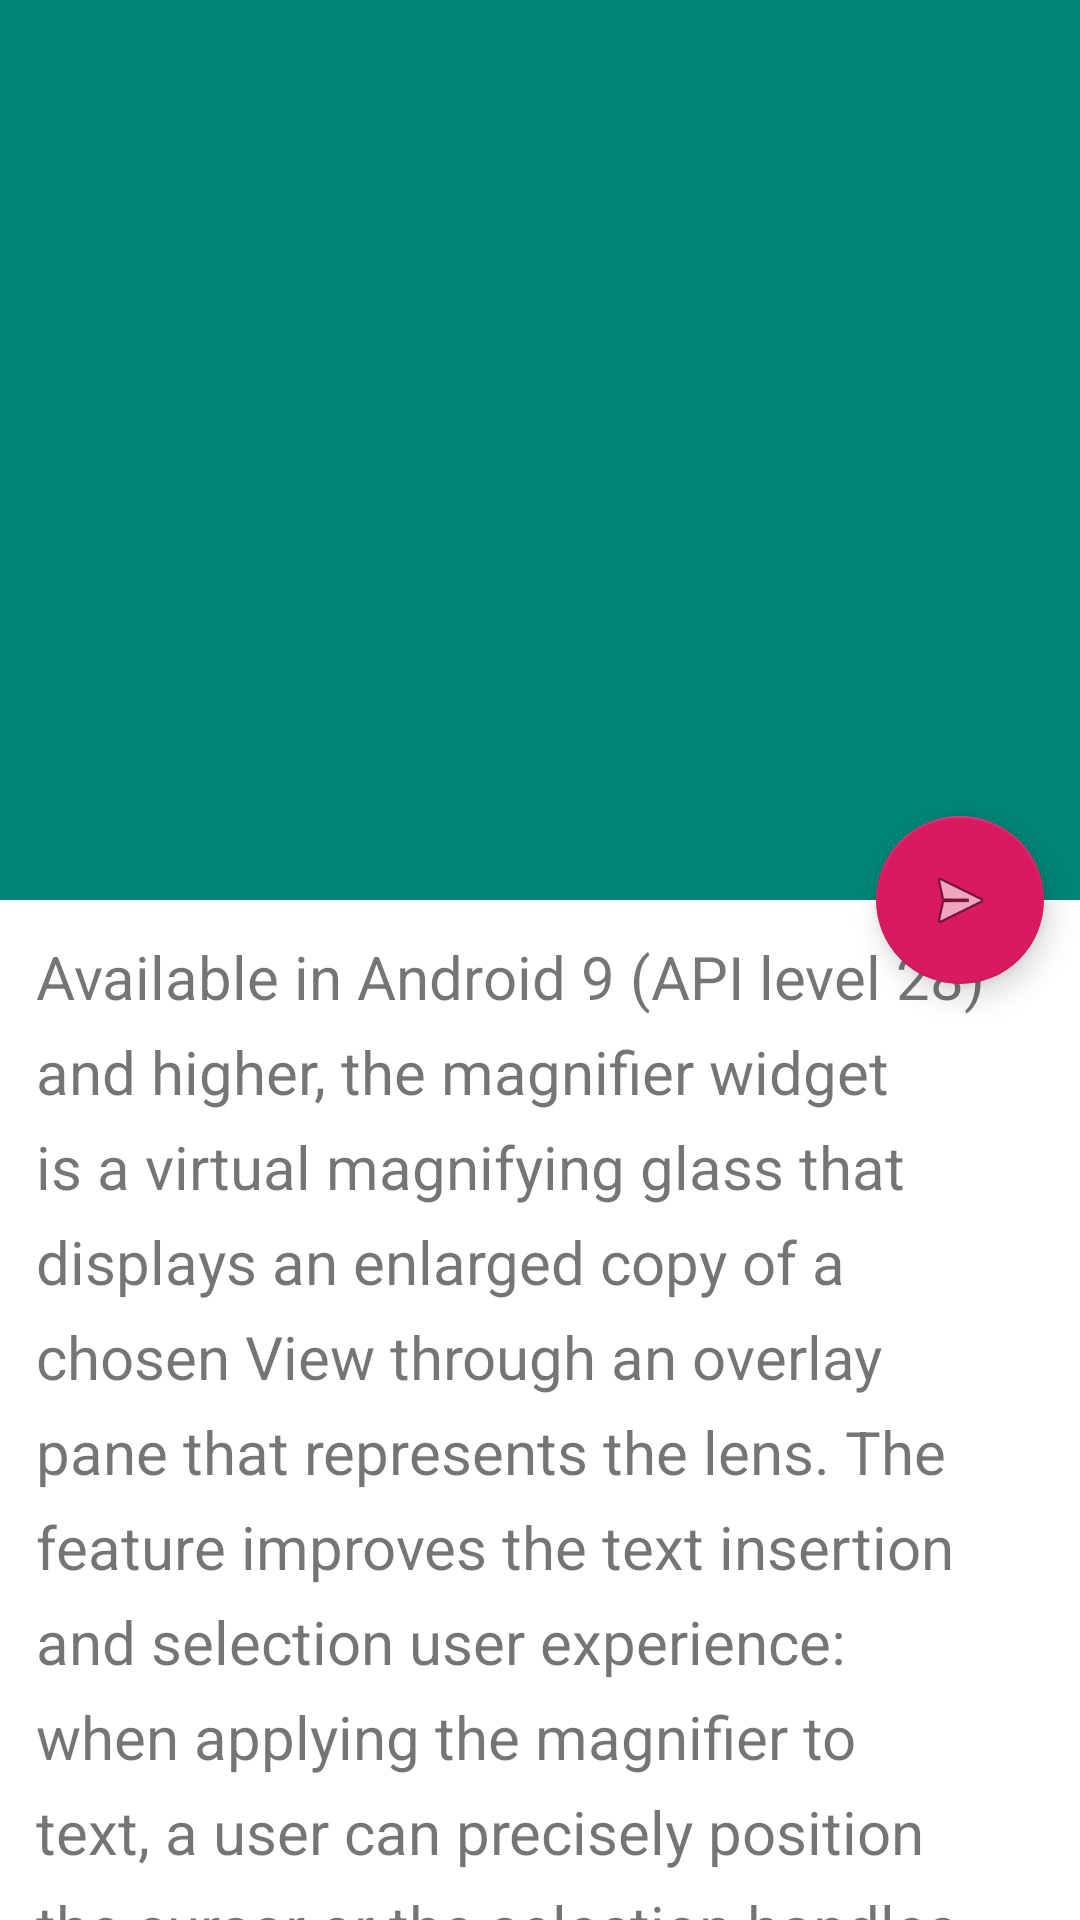

Named icons in this screenshot (1080 x 1920) and their centers, (x,y):
send: (960,900)
